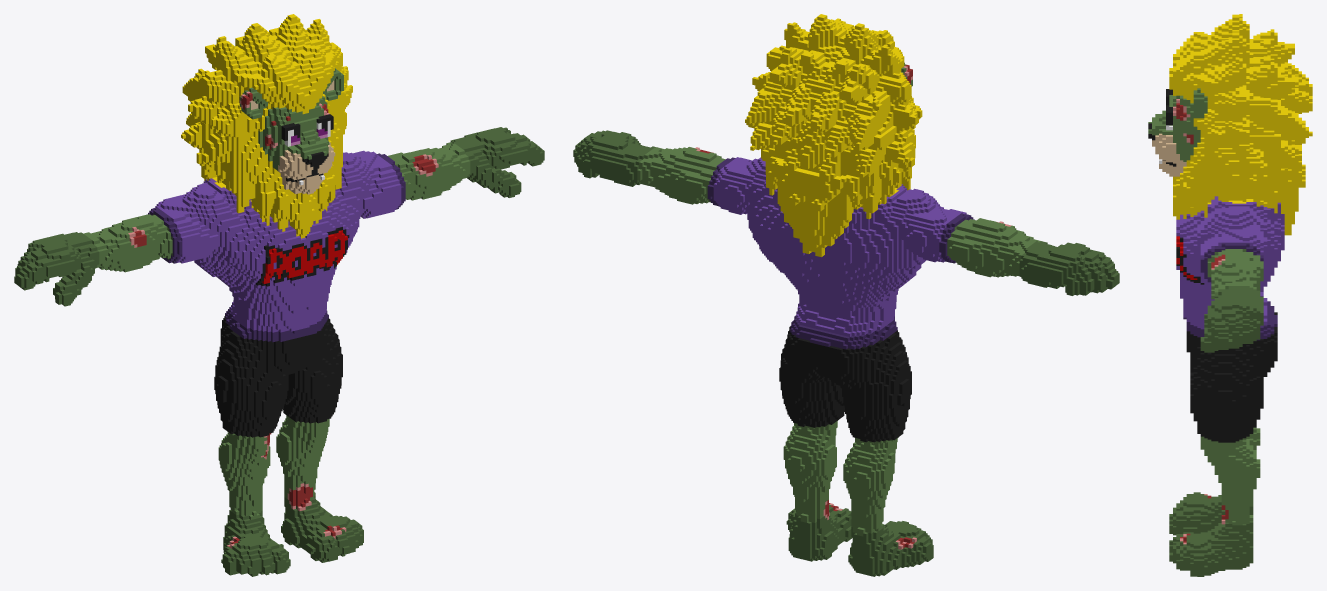
Rendered from 19-DVWbC2Q2.glb.
3 renders of one model, left to right at view 1: azimuth 30°, elevation 25°; view 2: azimuth 150°, elevation 25°; view 3: azimuth 270°, elevation 25°, orthographic. The views are drawn at different scales.
Visible parts, largest first — view 1: standard; view 2: standard; view 3: standard.
Part boxes in pixels (left/top/right/bottom): standard: left=14, top=14, right=544, bottom=576; standard: left=573, top=14, right=1119, bottom=576; standard: left=1148, top=14, right=1312, bottom=576.
Size of the model in its own units: 17.2 by 16.5 by 4.7.
5 materials, 5 textured.
